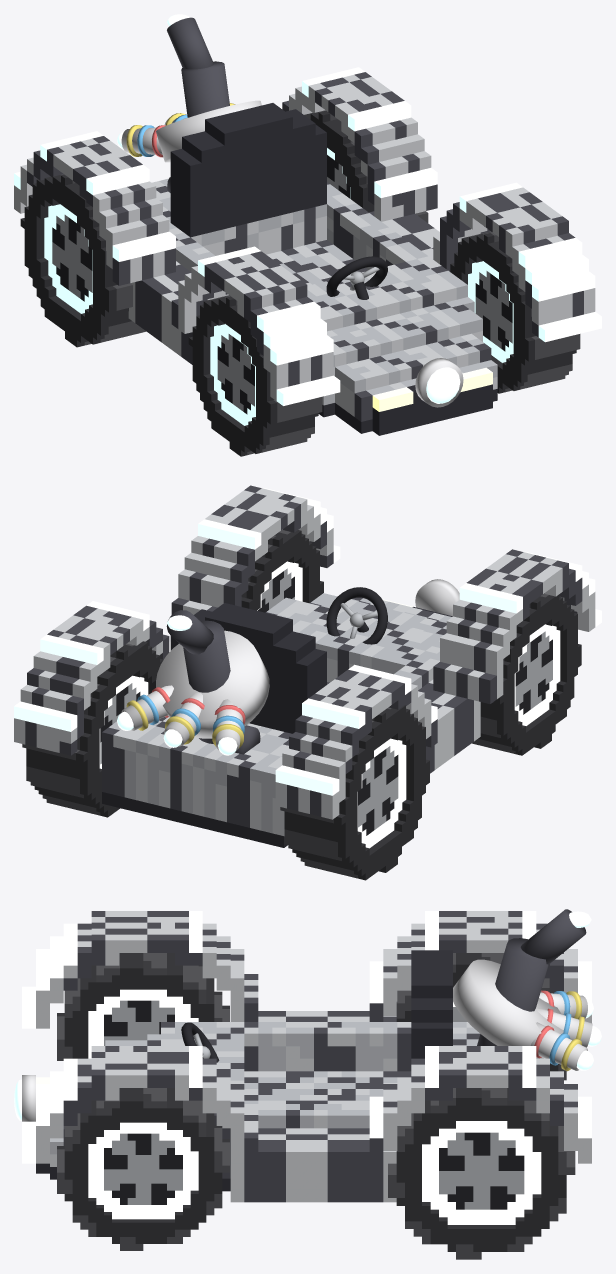
The model's file is K09_MicroscopeTurbo.glb.
3 views of the same model, one above another, from view 1: azimuth 30°, elevation 25°; view 2: azimuth 150°, elevation 25°; view 3: azimuth 270°, elevation 25° (orthographic). The views are drawn at different scales.
Visible parts, largest first — view 1: K09_MicroscopeTurbo_Mesh, K09_Wheel_RL, K09_Wheel_FL, K09_Wheel_FR, K09_Wheel_RR; view 2: K09_MicroscopeTurbo_Mesh, K09_Wheel_RL, K09_Wheel_FL, K09_Wheel_RR, K09_Wheel_FR; view 3: K09_MicroscopeTurbo_Mesh, K09_Wheel_RR, K09_Wheel_FR, K09_Wheel_FL, K09_Wheel_RL.
Boxes of the visible parts, x1,y1,x2,y2 form: K09_MicroscopeTurbo_Mesh: (14,14,601,435); K09_Wheel_RL: (20,174,146,347); K09_Wheel_FL: (188,295,322,456); K09_Wheel_FR: (450,231,580,393); K09_Wheel_RR: (304,110,428,222); K09_MicroscopeTurbo_Mesh: (14,485,601,847); K09_Wheel_RL: (280,705,429,880); K09_Wheel_FL: (472,594,581,755); K09_Wheel_RR: (22,641,163,817); K09_Wheel_FR: (241,530,323,612); K09_MicroscopeTurbo_Mesh: (14,909,601,1202); K09_Wheel_RR: (388,1088,575,1259); K09_Wheel_FR: (57,1088,229,1250); K09_Wheel_FL: (57,953,229,1060); K09_Wheel_RL: (396,953,566,1080).
Size of the model in its own units: 1.69 by 1.27 by 2.54.
